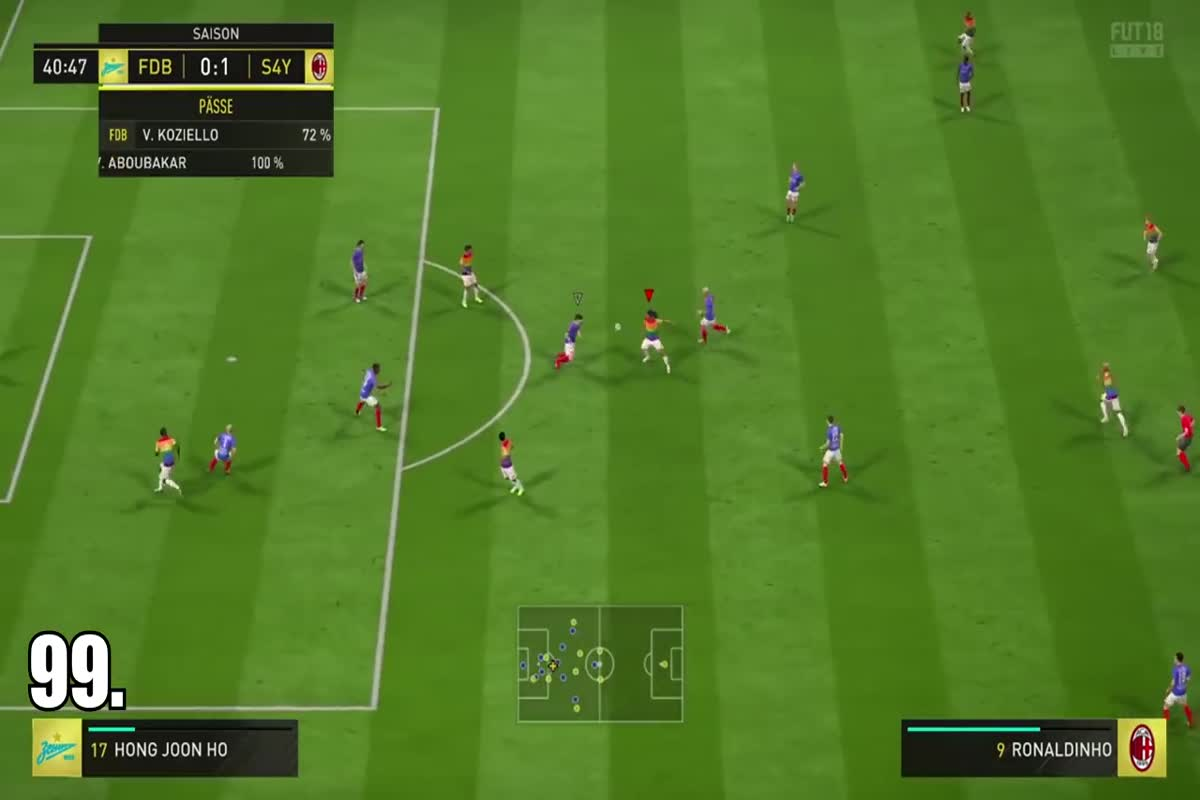ball: (608, 317, 628, 336)
